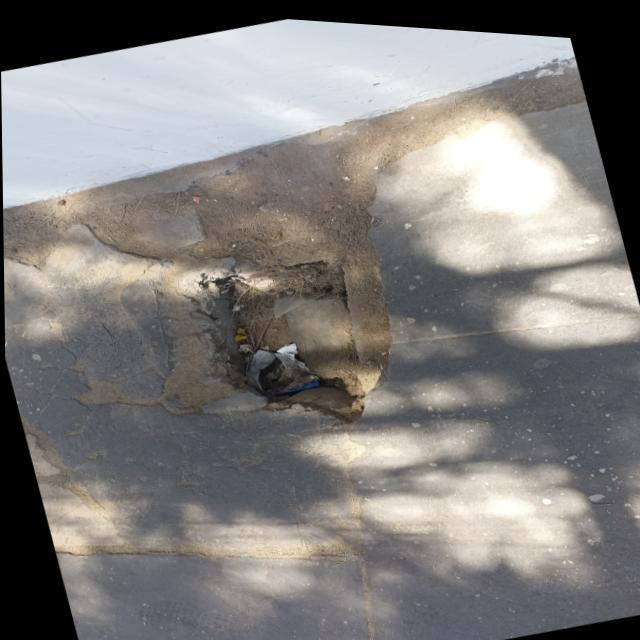hole: (185, 222, 422, 452)
